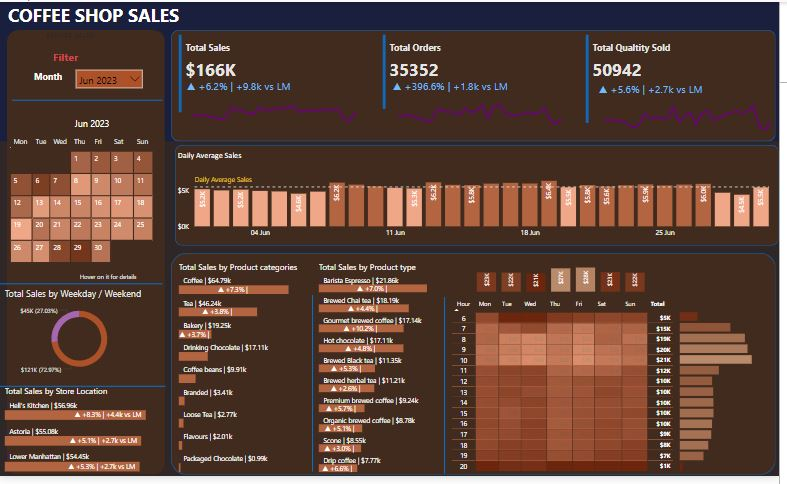

Layout of this report page (visuals, bound fields, positions):
{"tool":"powerbi","page":{"name":"Page 1","canvas":[1400,850],"ordinal":0},"visuals":[{"type":"shape","box":[0,0,1400,249.9],"z":0},{"type":"shape","box":[308.7,50.5,1085.4,200],"z":1000},{"type":"shape","box":[308.7,450.5,1085.4,398.1],"z":2000},{"type":"shape","box":[13.6,50.5,283.5,798.1],"z":3000},{"type":"textbox","box":[15.5,0,339.8,50.5],"z":4000},{"type":"cardVisual","fields":{"Data":["Transactions.Total Sales"]},"box":[318.4,54.4,335.9,149.5],"z":5000},{"type":"slicer","fields":{"Values":["DATE TABLE.MONTH YEAR"]},"box":[132,116.5,130.1,42.7],"z":6000},{"type":"lineChart","fields":{"Y":["Transactions.Total Sales"],"Category":["DATE TABLE.Date.Variation.Date Hierarchy.Year","DATE TABLE.Date.Variation.Date Hierarchy.Quarter","DATE TABLE.Date.Variation.Date Hierarchy.Month","DATE TABLE.Date.Variation.Date Hierarchy.Day"]},"box":[332,137.9,322.3,87.4],"z":7000},{"type":"cardVisual","fields":{"Data":["Transactions.Total Orders"]},"box":[683.5,54.4,337.9,143.7],"z":8000},{"type":"lineChart","fields":{"Category":["DATE TABLE.Date.Variation.Date Hierarchy.Year","DATE TABLE.Date.Variation.Date Hierarchy.Quarter","DATE TABLE.Date.Variation.Date Hierarchy.Month","DATE TABLE.Date.Variation.Date Hierarchy.Day"],"Y":["Transactions.Total Orders"]},"box":[701,137.9,322.3,87.4],"z":9000},{"type":"cardVisual","fields":{"Data":["Transactions.Total Qualtity Sold"]},"box":[1048.5,54.4,335.9,168.9],"z":10000},{"type":"lineChart","fields":{"Category":["DATE TABLE.Date.Variation.Date Hierarchy.Year","DATE TABLE.Date.Variation.Date Hierarchy.Quarter","DATE TABLE.Date.Variation.Date Hierarchy.Month","DATE TABLE.Date.Variation.Date Hierarchy.Day"],"Y":["Transactions.Total Qualtity Sold"]},"box":[1071.8,143.7,328.2,95.1],"z":11000},{"type":"pivotTable","fields":{"Rows":["DATE TABLE.WEEK NUMBER"],"Columns":["DATE TABLE.Day name"],"Values":["Min(DATE TABLE.DAY NUMBER)"]},"box":[13.6,238.8,285.4,256.3],"z":12000},{"type":"cardVisual","fields":{"Data":["Min(DATE TABLE.MONTH YEAR)"]},"box":[118.4,182.5,106.8,56.3],"z":13000},{"type":"cardVisual","fields":{"Data":["Transactions.foot Note"]},"box":[132,464.1,176.7,35],"z":14000},{"type":"donutChart","fields":{"Category":["DATE TABLE.Weekday / Weekend"],"Y":["Transactions.Total Sales"]},"box":[5.8,512.6,277.7,161.2],"z":15000},{"type":"shape","box":[23.3,170.9,269.9,11.7],"z":16000},{"type":"shape","box":[0,499,293.2,13.6],"z":17000},{"type":"clusteredBarChart","title":"Total Sales by Store Location","fields":{"Category":["Transactions.store_location"],"Y":["Transactions.black","Transactions.Total Sales"]},"box":[5.6,687.9,289.7,162.6],"z":18000},{"type":"shape","box":[1.9,681.6,297.1,15.5],"z":19000},{"type":"shape","box":[316.5,256.3,1083.5,180.6],"z":20000},{"type":"columnChart","title":"Daily Average Sales","fields":{"Category":["Transactions.transaction_date"],"Y":["Transactions.Total Sales"]},"box":[316.5,266,1075.7,167],"z":21000},{"type":"clusteredBarChart","title":"Total Sales by Product categories","fields":{"Y":["Transactions.black","Transactions.Total Sales"],"Category":["Transactions.product_category"]},"box":[318.4,464.1,236.9,384.5],"z":22000},{"type":"clusteredBarChart","title":"Total Sales by Product type","fields":{"Y":["Transactions.black","Transactions.Total Sales"],"Category":["Transactions.product_type"]},"box":[568.9,464.1,236.9,384.5],"z":23000},{"type":"shape","box":[556,525.2,12.7,316.9],"z":24000},{"type":"shape","box":[793.3,528.8,12.7,316.9],"z":25000},{"type":"pivotTable","fields":{"Columns":["DATE TABLE.Day name"],"Rows":["Transactions.Hour sales"],"Values":["Transactions.Total Sales"]},"box":[807.8,528.2,431.1,322.3],"z":26000},{"type":"barChart","title":"Hour sales","fields":{"Category":["Transactions.Hour sales"],"Y":["Transactions.Total Sales"]},"box":[1217.5,543.7,176.7,302.9],"z":27000},{"type":"columnChart","title":"Hour sales","fields":{"Y":["Transactions.Total Sales"],"Category":["DATE TABLE.Day name"]},"box":[852.6,445.1,312.3,80.8],"z":28000},{"type":"textbox","box":[83.5,50.5,137.9,21.4],"z":29000},{"type":"textbox","box":[62.1,124.3,69.9,29.1],"z":30000},{"type":"textbox","box":[97.1,85.4,62.1,31.1],"z":31000}]}

Visuals, with their boxes in screenshot pixels (x1, y1, x2, y2), scaled from the page's 1400x850 canvas onto the 787x484 screenshot:
shape: x1=0, y1=0, x2=786, y2=142
shape: x1=174, y1=29, x2=784, y2=143
shape: x1=174, y1=257, x2=784, y2=483
shape: x1=8, y1=29, x2=167, y2=483
textbox: x1=9, y1=0, x2=200, y2=29
cardVisual - Transactions.Total Sales: x1=179, y1=31, x2=368, y2=116
slicer - DATE TABLE.MONTH YEAR: x1=74, y1=66, x2=147, y2=91
lineChart - Transactions.Total Sales x DATE TABLE.Date.Variation.Date Hierarchy.Year: x1=187, y1=79, x2=368, y2=128
cardVisual - Transactions.Total Orders: x1=384, y1=31, x2=574, y2=113
lineChart - DATE TABLE.Date.Variation.Date Hierarchy.Year x DATE TABLE.Date.Variation.Date Hierarchy.Quarter: x1=394, y1=79, x2=575, y2=128
cardVisual - Transactions.Total Qualtity Sold: x1=589, y1=31, x2=778, y2=127
lineChart - DATE TABLE.Date.Variation.Date Hierarchy.Year x DATE TABLE.Date.Variation.Date Hierarchy.Quarter: x1=603, y1=82, x2=786, y2=136
pivotTable - DATE TABLE.WEEK NUMBER x DATE TABLE.Day name: x1=8, y1=136, x2=168, y2=282
cardVisual - Min(DATE TABLE.MONTH YEAR): x1=67, y1=104, x2=127, y2=136
cardVisual - Transactions.foot Note: x1=74, y1=264, x2=174, y2=284
donutChart - DATE TABLE.Weekday / Weekend x Transactions.Total Sales: x1=3, y1=292, x2=159, y2=384
shape: x1=13, y1=97, x2=165, y2=104
shape: x1=0, y1=284, x2=165, y2=292
"Total Sales by Store Location" clusteredBarChart: x1=3, y1=392, x2=166, y2=483
shape: x1=1, y1=388, x2=168, y2=397
shape: x1=178, y1=146, x2=786, y2=249
"Daily Average Sales" columnChart: x1=178, y1=151, x2=783, y2=247
"Total Sales by Product categories" clusteredBarChart: x1=179, y1=264, x2=312, y2=483
"Total Sales by Product type" clusteredBarChart: x1=320, y1=264, x2=453, y2=483
shape: x1=313, y1=299, x2=320, y2=480
shape: x1=446, y1=301, x2=453, y2=482
pivotTable - DATE TABLE.Day name x Transactions.Hour sales: x1=454, y1=301, x2=696, y2=483
"Hour sales" barChart: x1=684, y1=310, x2=784, y2=482
"Hour sales" columnChart: x1=479, y1=253, x2=655, y2=299
textbox: x1=47, y1=29, x2=124, y2=41
textbox: x1=35, y1=71, x2=74, y2=87
textbox: x1=55, y1=49, x2=89, y2=66
